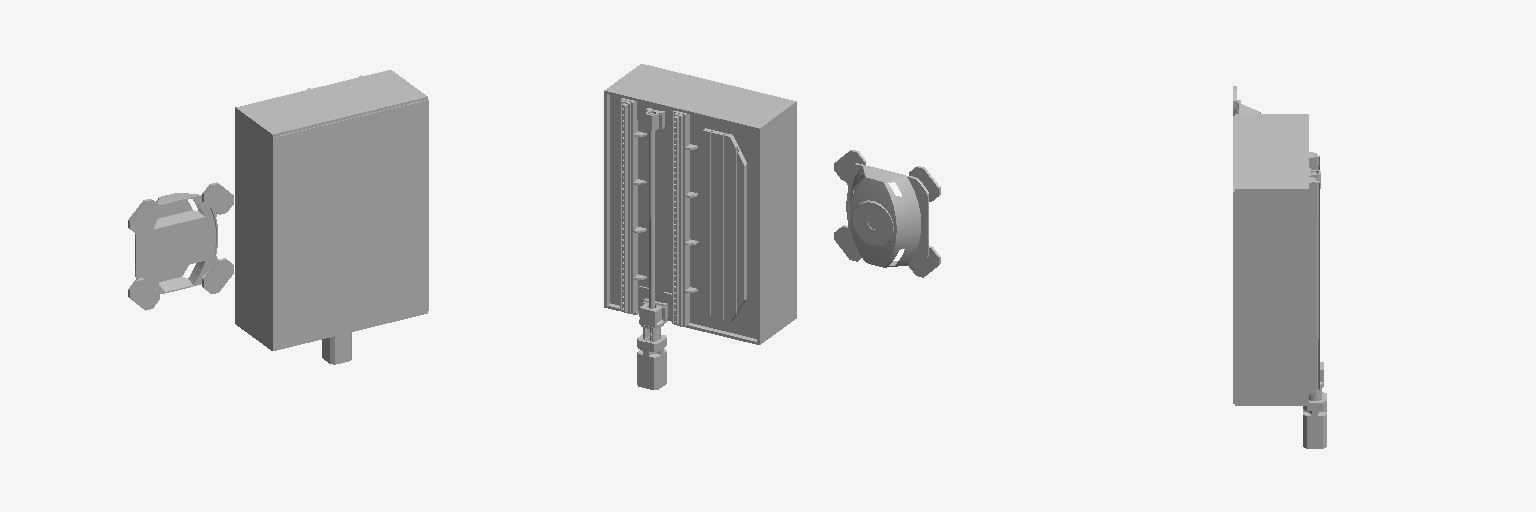
File: tisch_und_base_v4.obj
3 renders of one model, left to right at view 1: azimuth 30°, elevation 25°; view 2: azimuth 150°, elevation 25°; view 3: azimuth 270°, elevation 25°, orthographic.
Visible parts, largest first — view 1: avs.001, L0; view 2: avs.001, L0; view 3: avs.001.
Boxes of the visible parts, <box> form: avs.001: <box>235,70,428,364</box>; L0: <box>128,182,233,310</box>; avs.001: <box>604,64,796,389</box>; L0: <box>834,150,940,277</box>; avs.001: <box>1233,114,1326,448</box>.
Size of the model in its own units: 2.88 by 2.57 by 0.7785.